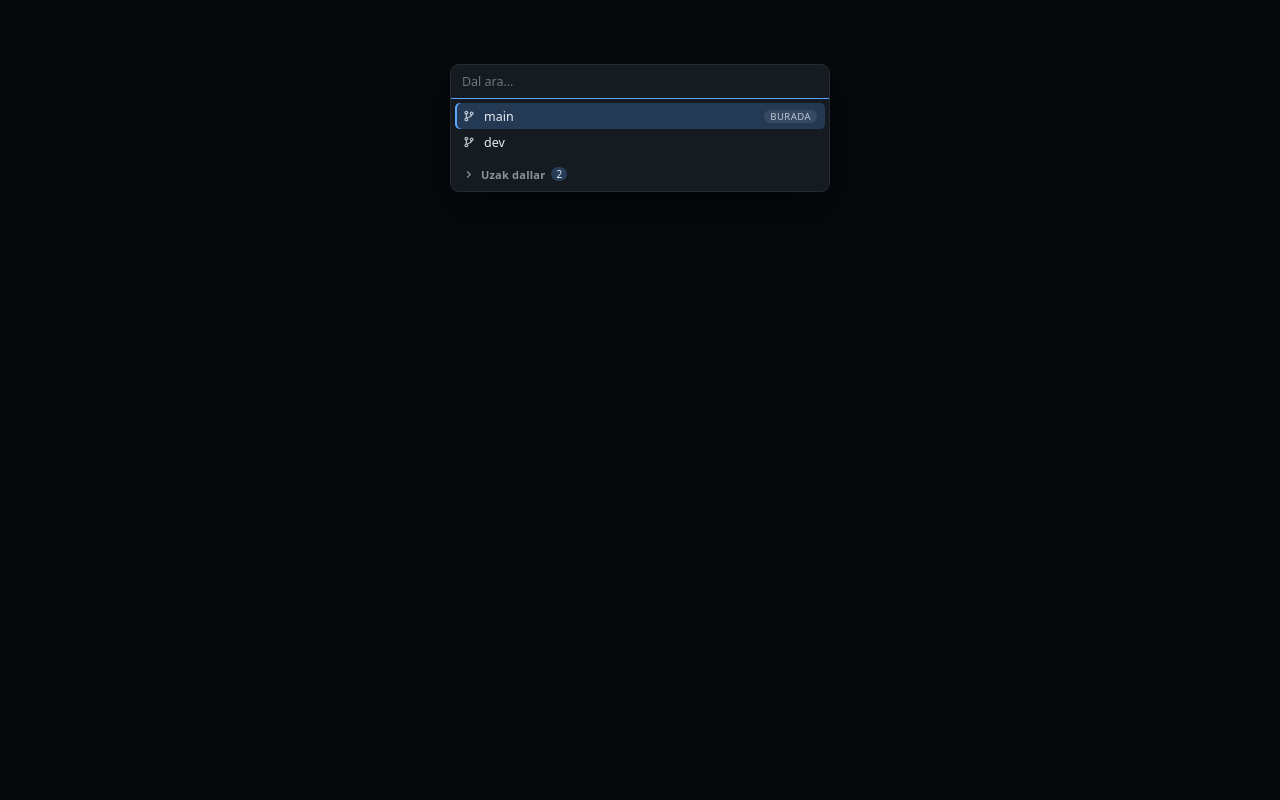
Test: bölümü açma › başlığa basınca uzak dallar başlığın altında geliyor
Step 1. Click the button "Uzak dallar 2" → (513, 174), box 455,161 -> 825,187
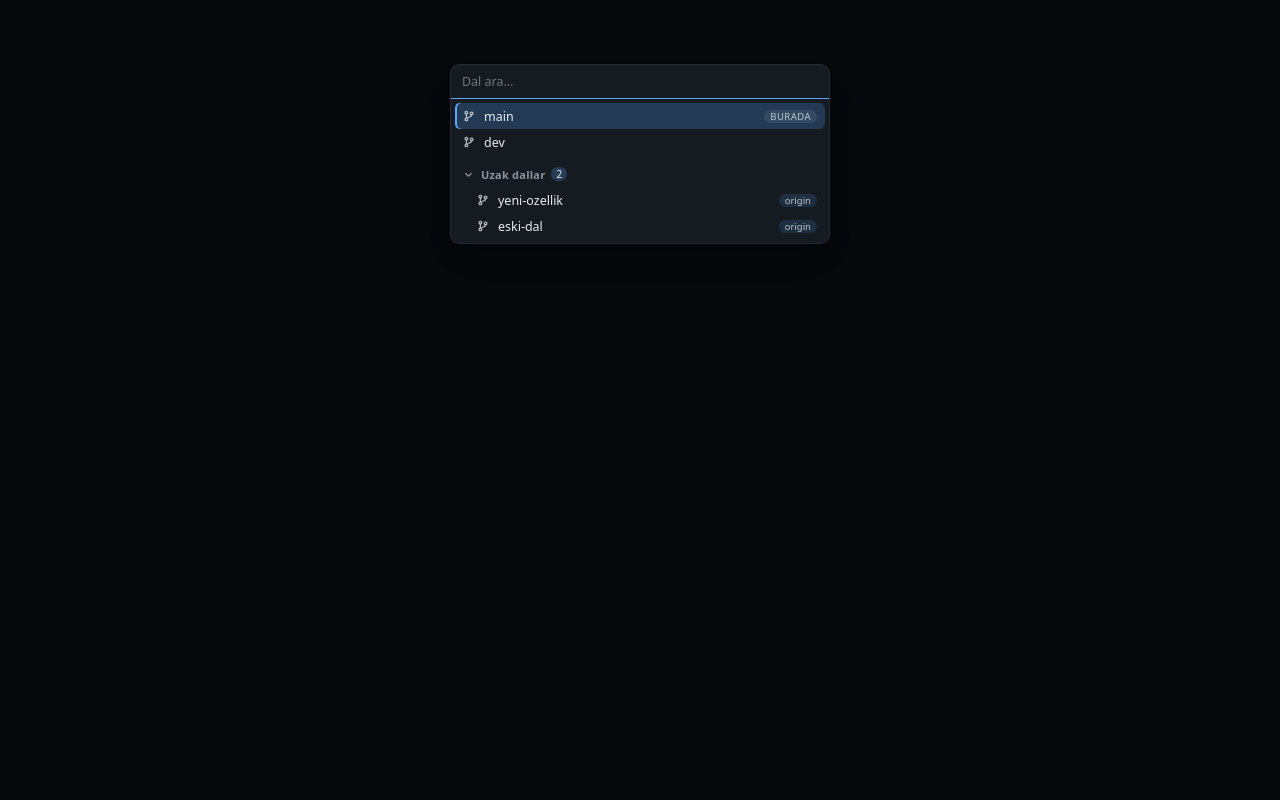
expect the button "Uzak dallar 2" is expanded: met, box 455,161 -> 825,187
expect the 1st text with class "remote" reads "origin": met, box 785,194 -> 811,206
